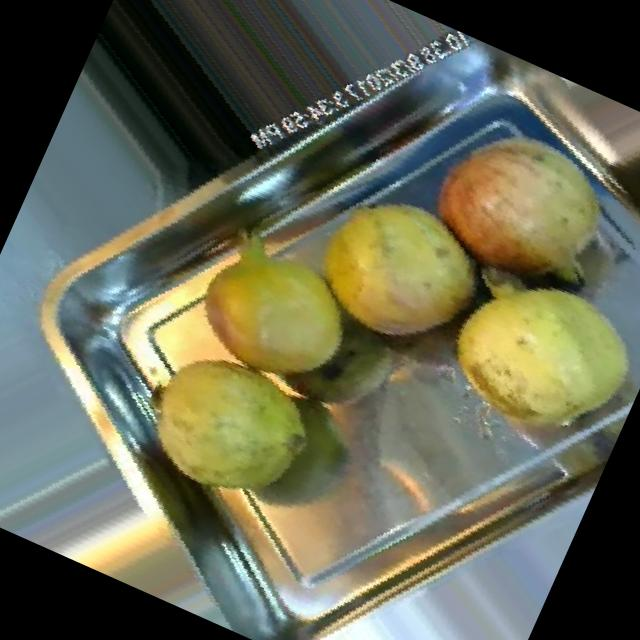fruit: (393, 84, 640, 338), (98, 307, 354, 547), (405, 231, 640, 481), (274, 153, 520, 385), (158, 200, 394, 422)
